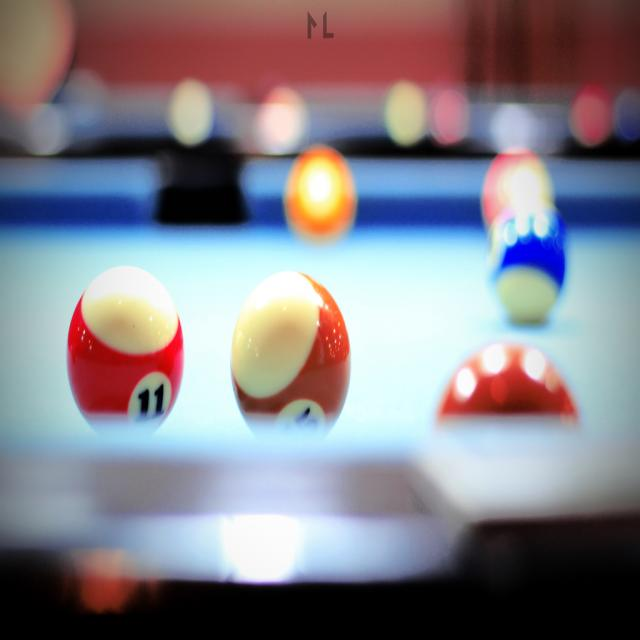Ball: (0, 0, 640, 618)
Billiard table: (0, 152, 640, 640)
